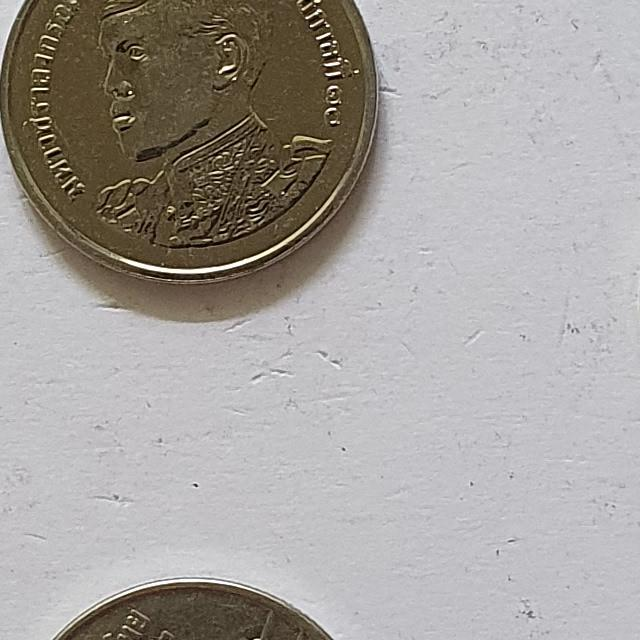1 Bath: (1, 1, 397, 296), (29, 570, 361, 640)
